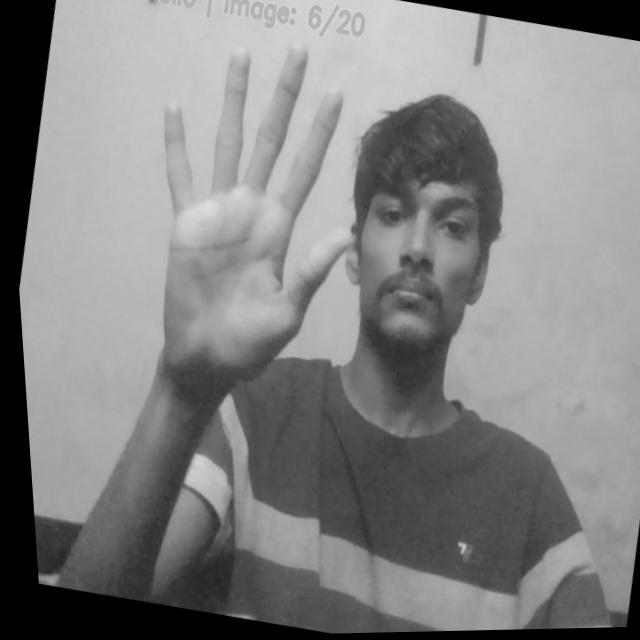Hello: (103, 16, 397, 427)
